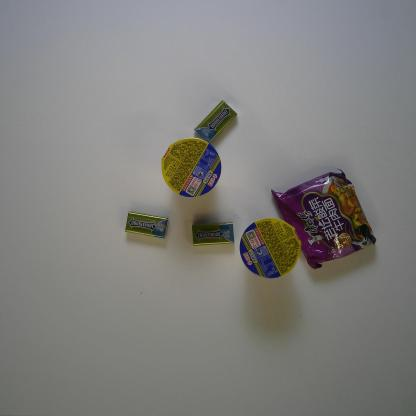Gum: (192, 100, 240, 144), (123, 211, 170, 241), (191, 221, 235, 247)
Instant Noodles: (269, 164, 378, 271), (239, 216, 303, 280), (158, 137, 224, 199)
